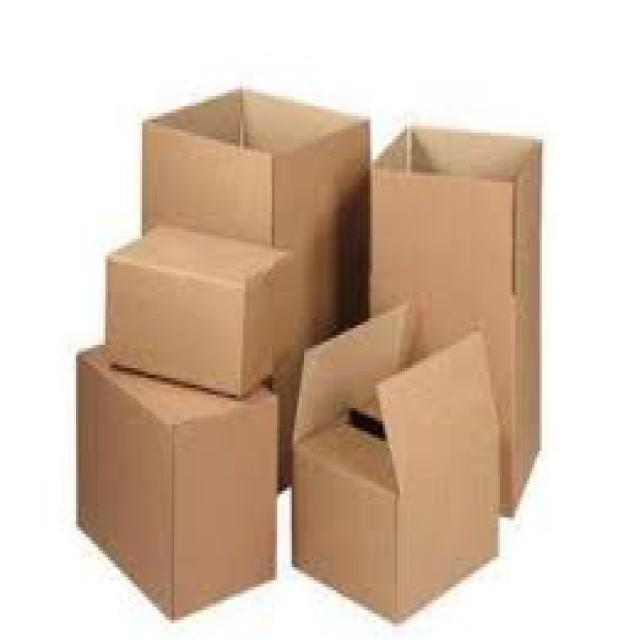Cardboard: (367, 122, 543, 518), (289, 309, 498, 626)
